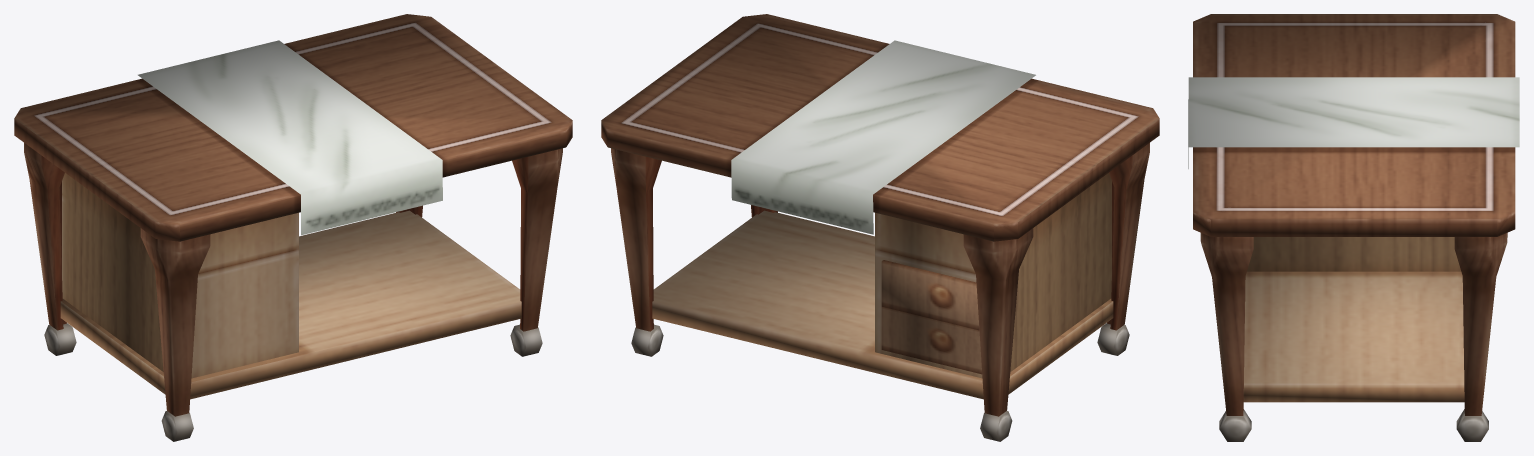
File: a_SWIdesk04.glb
3 renders of one model, left to right at view 1: azimuth 30°, elevation 25°; view 2: azimuth 150°, elevation 25°; view 3: azimuth 270°, elevation 25°, orthographic.
Parts seen in each view (by area): view 1: a_SWIdesk04; view 2: a_SWIdesk04; view 3: a_SWIdesk04.
Boxes of the visible parts, bbox=[...] form: a_SWIdesk04: bbox=[14, 14, 572, 441]; a_SWIdesk04: bbox=[601, 14, 1159, 441]; a_SWIdesk04: bbox=[1188, 14, 1519, 441].
Size of the model in its own units: 1.35 by 0.7271 by 0.9189.
1 material, 1 textured.
